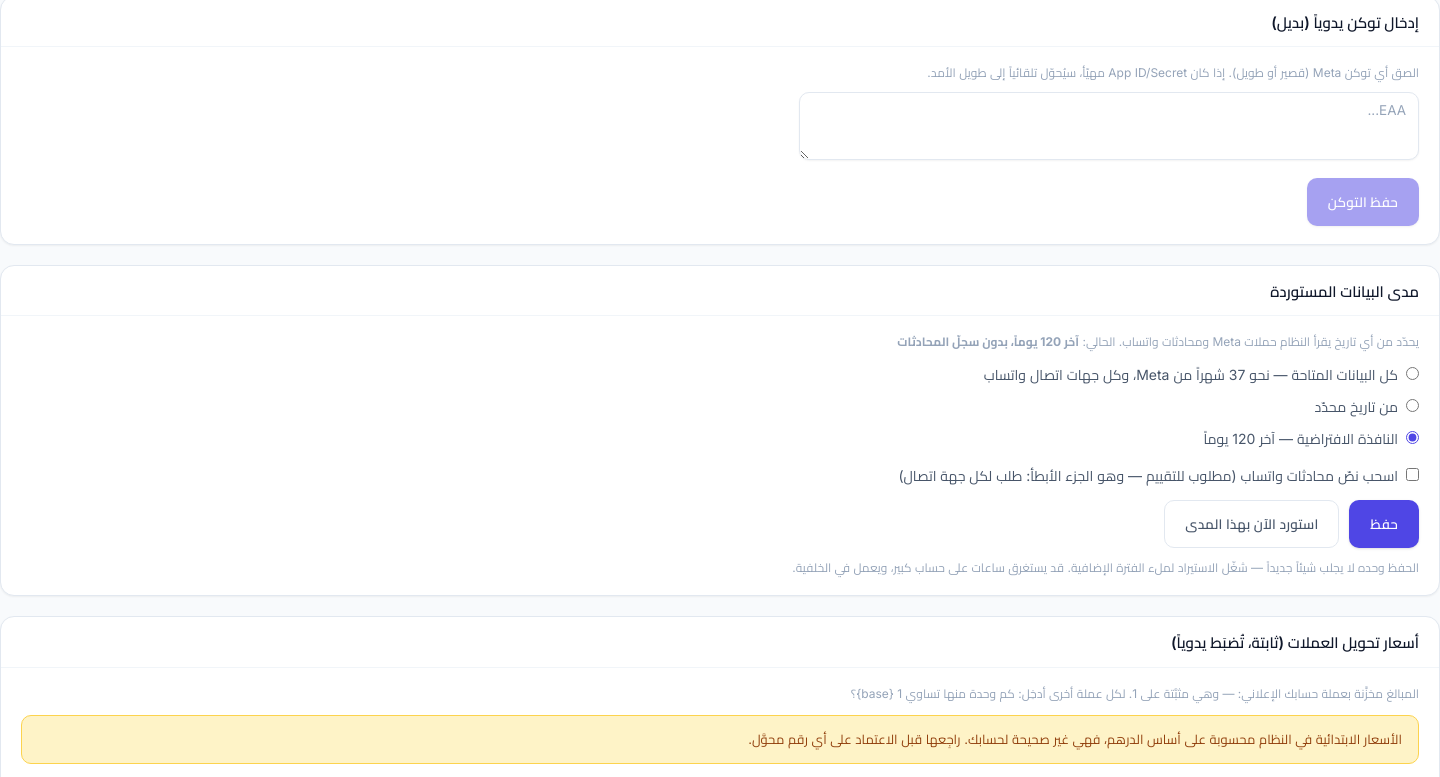
it: the import-range section on the Settings page › will not save a 'from a date' choice with no date
(page scrolled)
Check: the text "كل البيانات المتاحة" is shown, box [984,366,1398,383]
What coordinates should you click on to do the following:
click the radio button named "dr"
I would click on:
 (1412, 405)
Its box is [1406,399,1419,412].
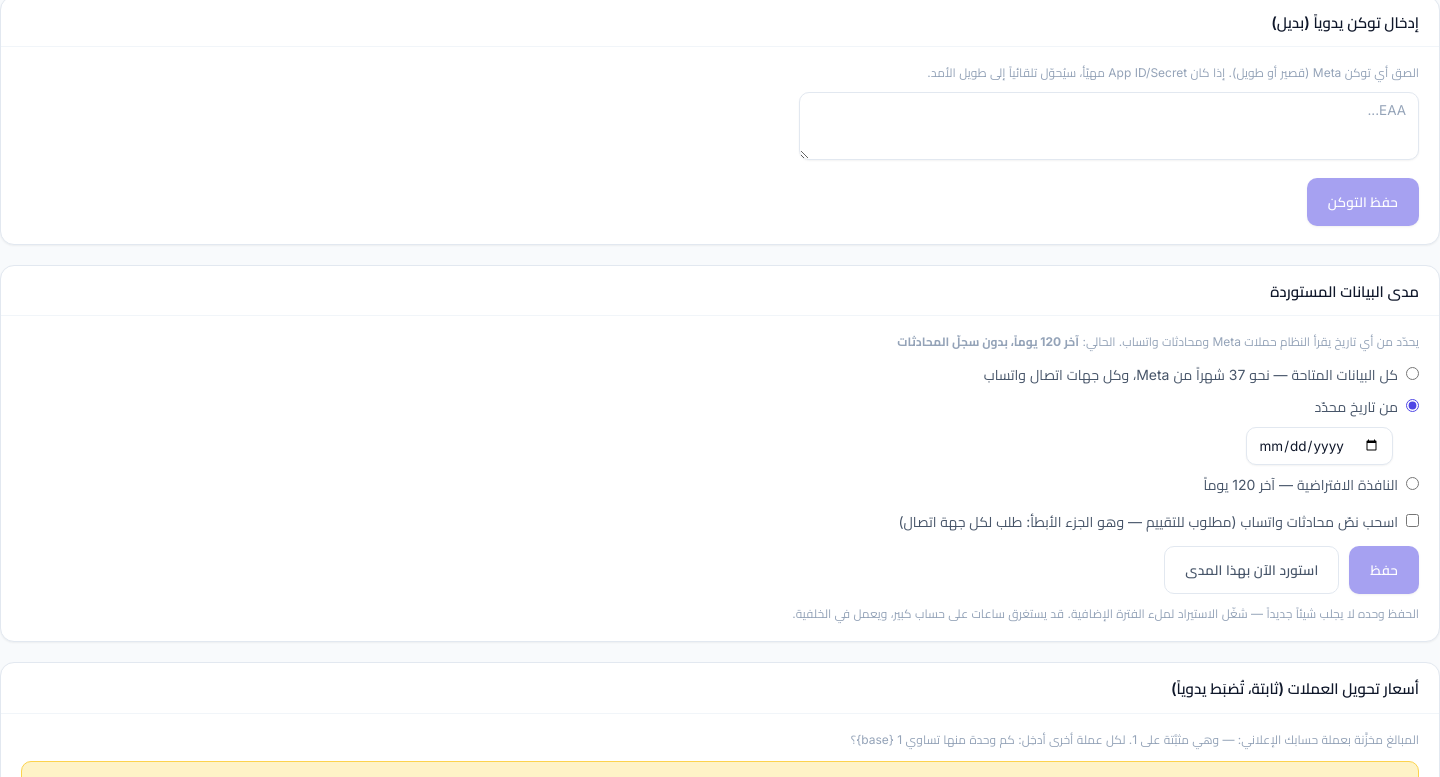
Check: the button "حفظ" is disabled, box [1349,546,1419,594]
